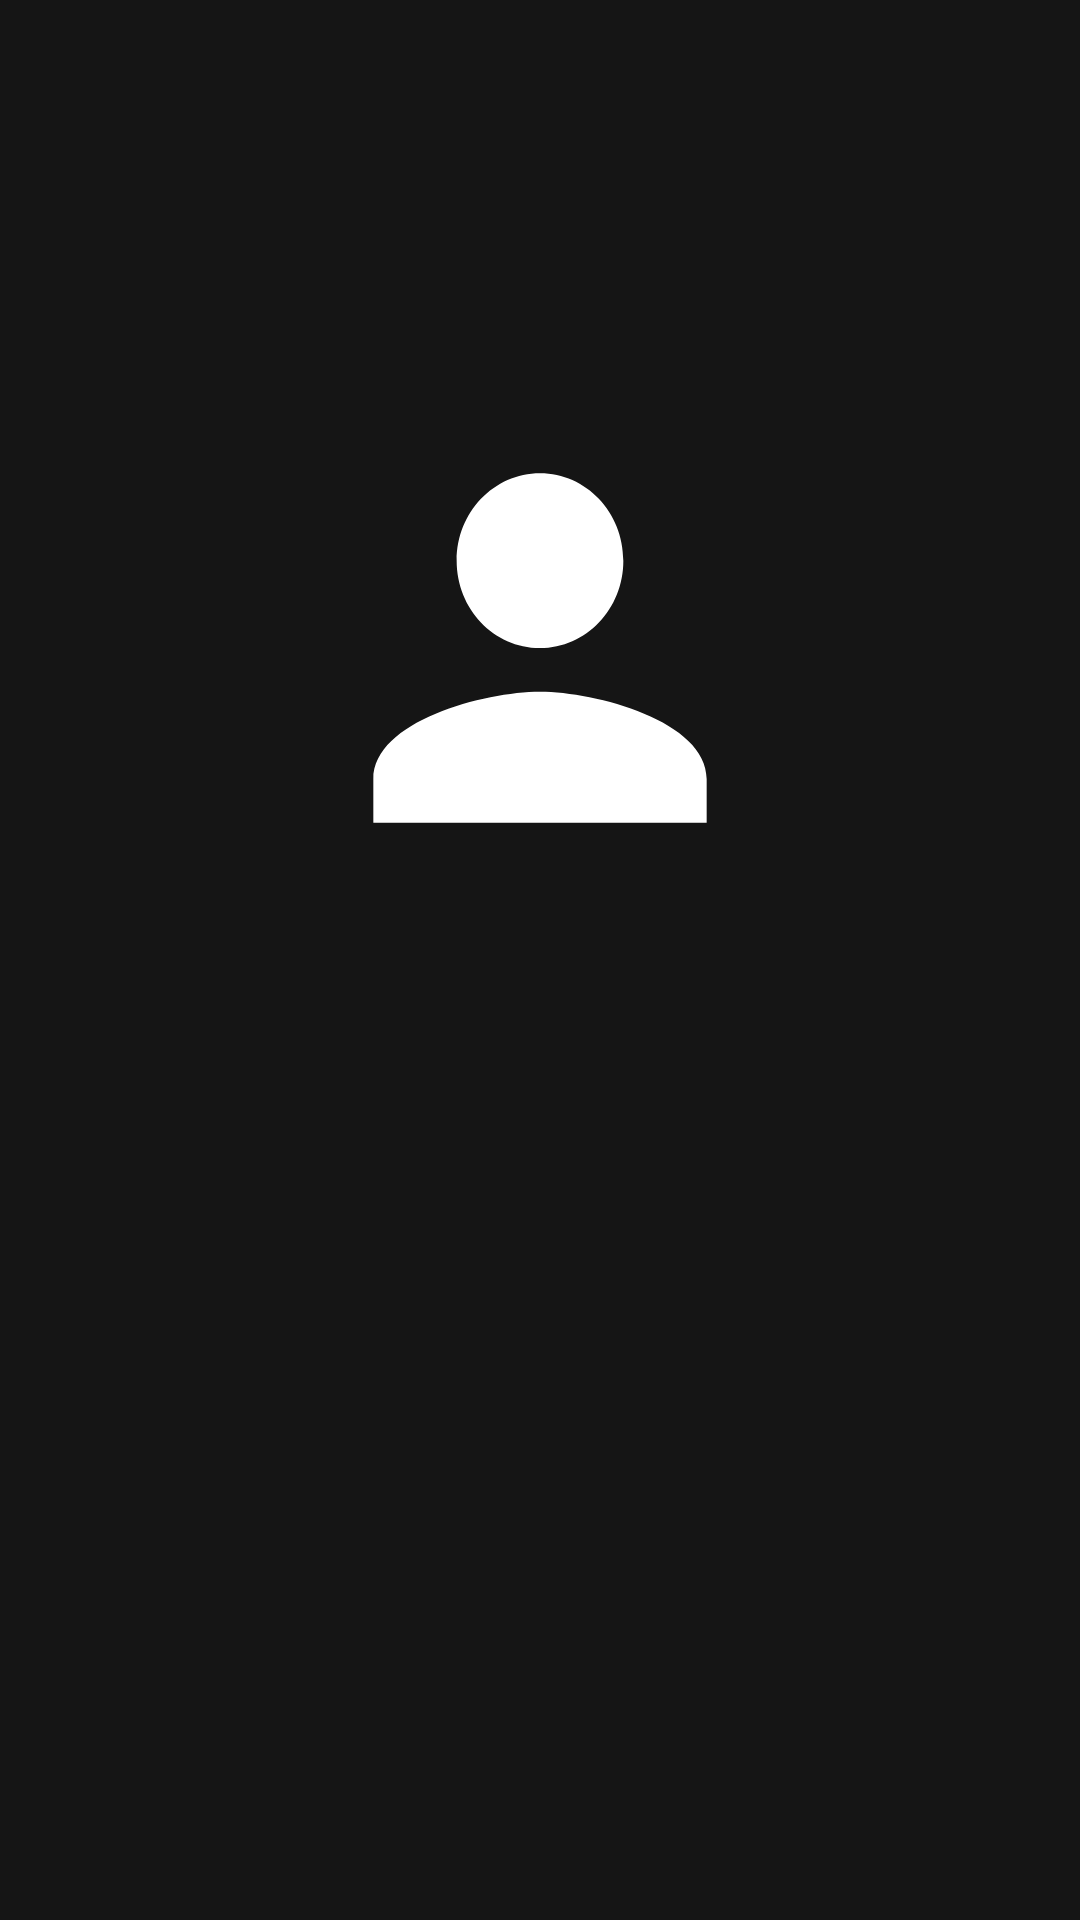

Locate icon controls on the screen. Image size 1080×1920, boxes as (x1, y1, x2, y2).
person: (373, 473, 707, 823)
